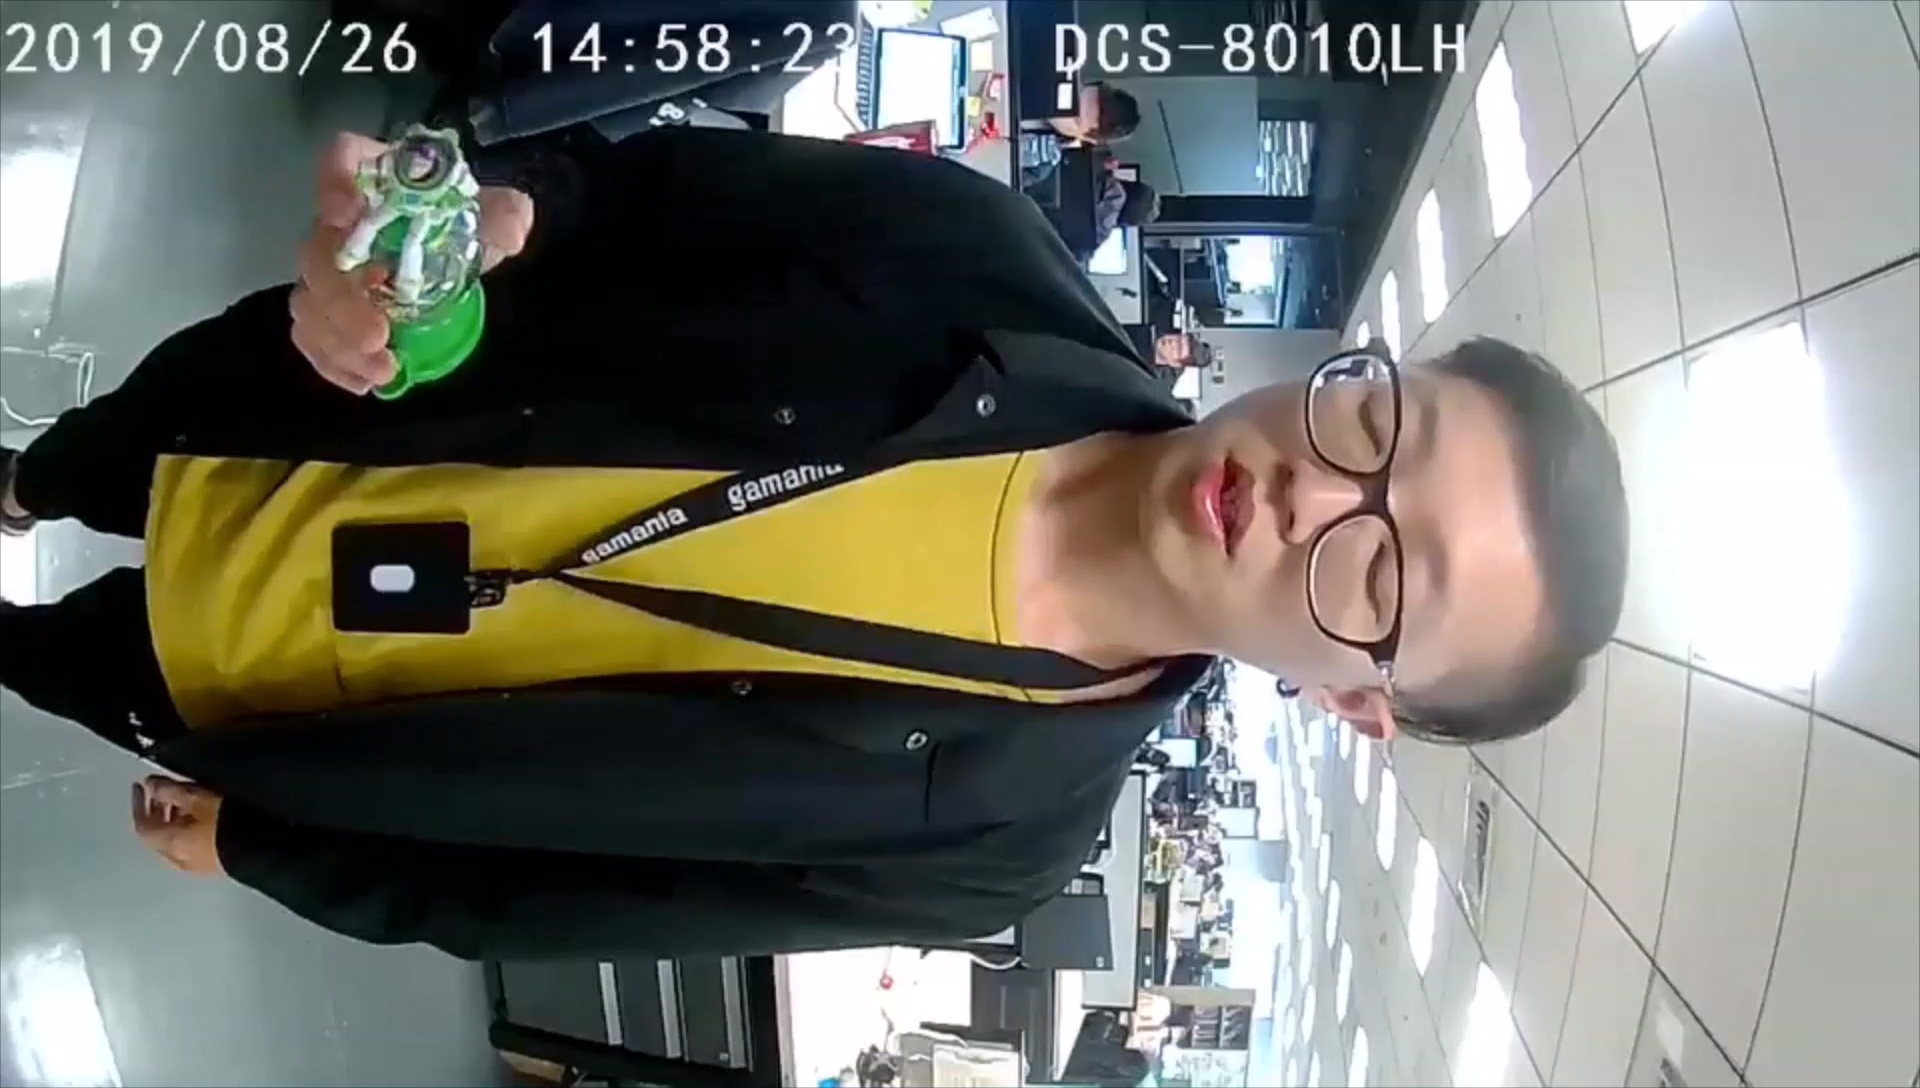buzz: (334, 120, 488, 400)
